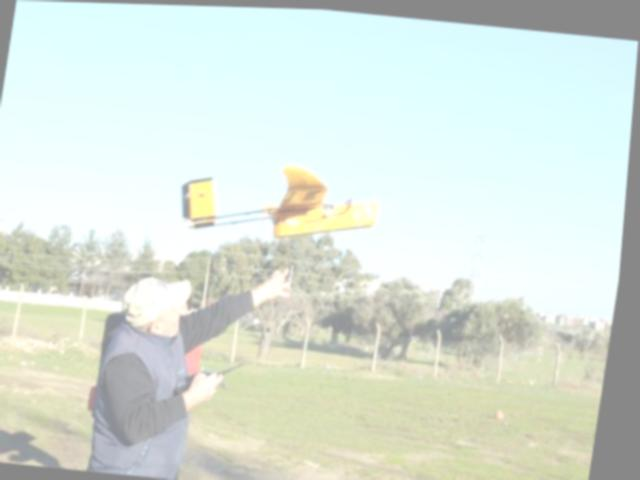iha: (174, 147, 393, 245)
